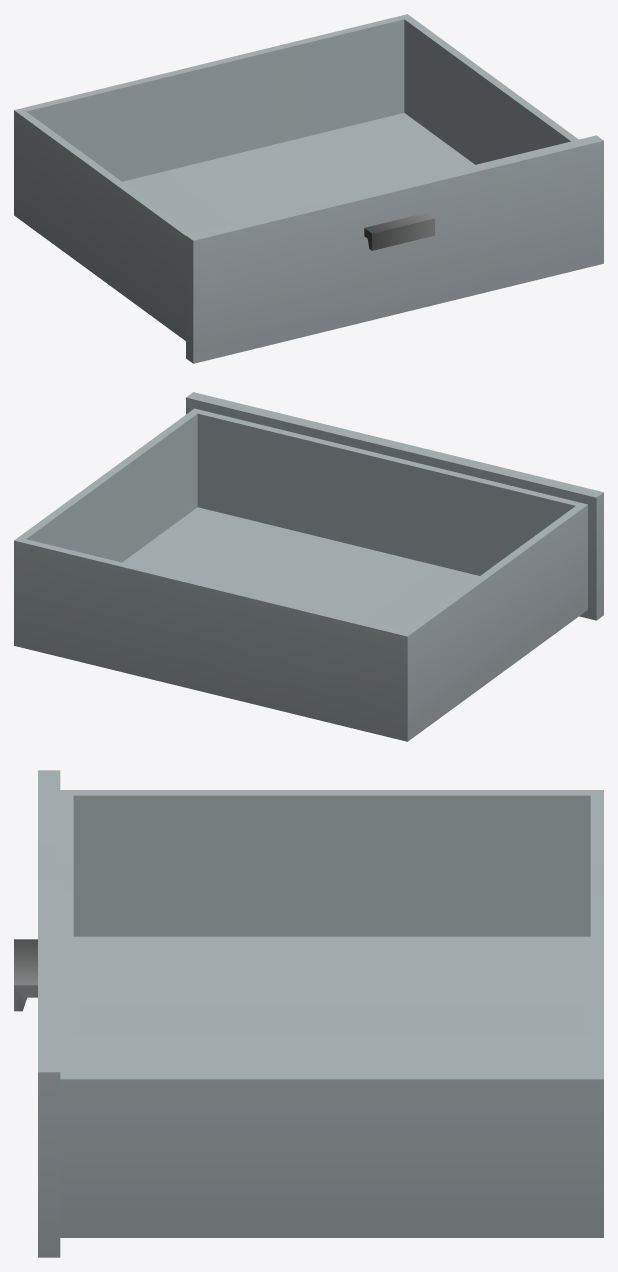
Rendered from Drawer_SideboardCabinet_WhiteGray_medium.fbx.
3 views of the same model, one above another, from view 1: azimuth 30°, elevation 25°; view 2: azimuth 150°, elevation 25°; view 3: azimuth 270°, elevation 25° (orthographic). The views are drawn at different scales.
Parts seen in each view (by area): view 1: Drawer_SideboardCabinet_WhiteGray_medium; view 2: Drawer_SideboardCabinet_WhiteGray_medium; view 3: Drawer_SideboardCabinet_WhiteGray_medium.
Part boxes in pixels (<box>): Drawer_SideboardCabinet_WhiteGray_medium: <box>14,14,603,363</box>; Drawer_SideboardCabinet_WhiteGray_medium: <box>14,392,603,741</box>; Drawer_SideboardCabinet_WhiteGray_medium: <box>14,770,603,1257</box>.
Bounding box in the file's own units: 78.47 × 22.45 × 64.83.
